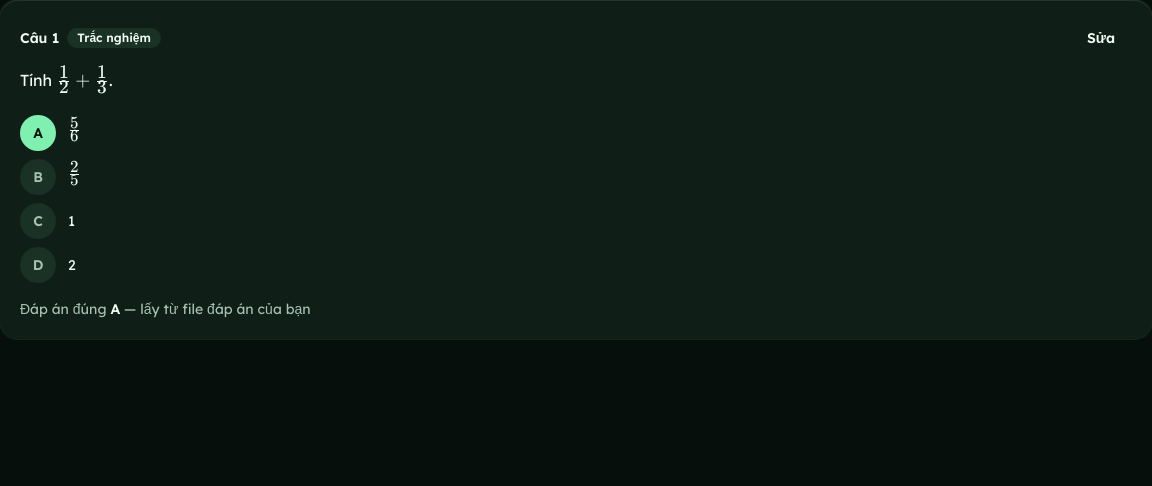
Test case: QuestionEditor — LaTeX ở chế độ xem › chế độ sửa trả lại chuỗi NGUỒN để sửa được công thức
Click the button "Sửa". click: coordinates (1101, 38)
box: [1070,20,1132,56]
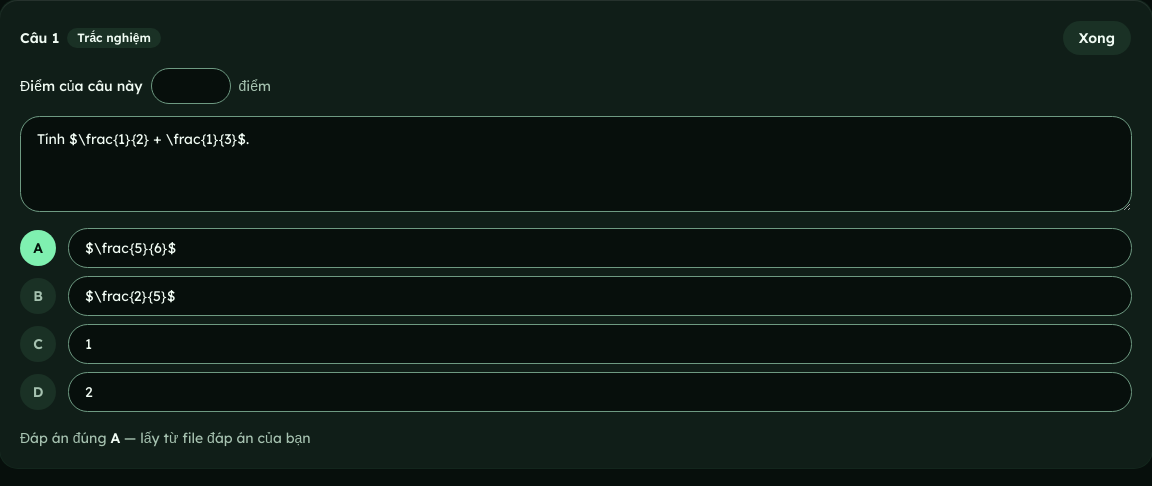
expect the text box showing "Tính $\\frac{1}{2} + \\frac{1}{3}$." is shown: met, box [20,116,1132,212]
expect the 1st field showing "$\\frac{5}{6}$" is shown: met, box [68,228,1132,268]
